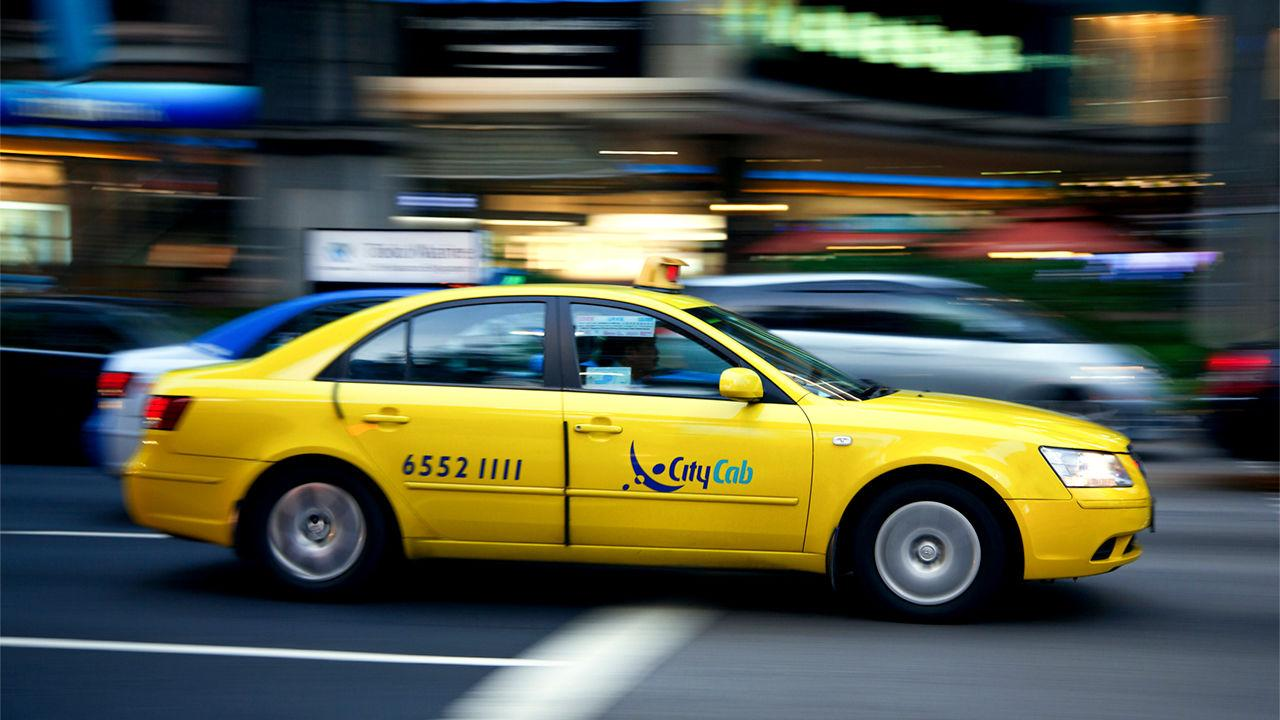taxi: (7, 252, 1192, 600)
